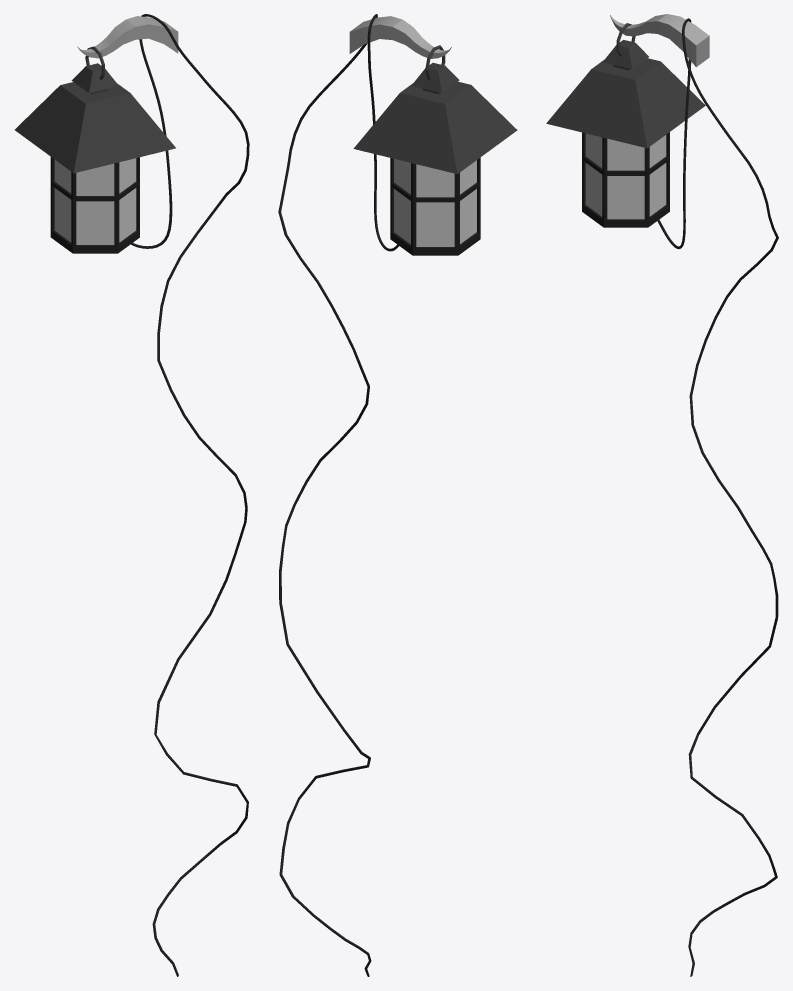
The model's file is fbx_lantern.fbx.
3 views of the same model, side by side, from view 1: azimuth 30°, elevation 25°; view 2: azimuth 150°, elevation 25°; view 3: azimuth 330°, elevation 25° (orthographic). The views are drawn at different scales.
Parts seen in each view (by area): view 1: fbx_lantern; view 2: fbx_lantern; view 3: fbx_lantern.
Part boxes in pixels (box(x1,y1,x2,y2)): fbx_lantern: box(15, 14, 249, 976); fbx_lantern: box(278, 14, 517, 976); fbx_lantern: box(546, 14, 778, 976).
Size of the model in its own units: 0.6699 by 3.05 by 0.3424.
Materials: 1 (1 with a texture image).
